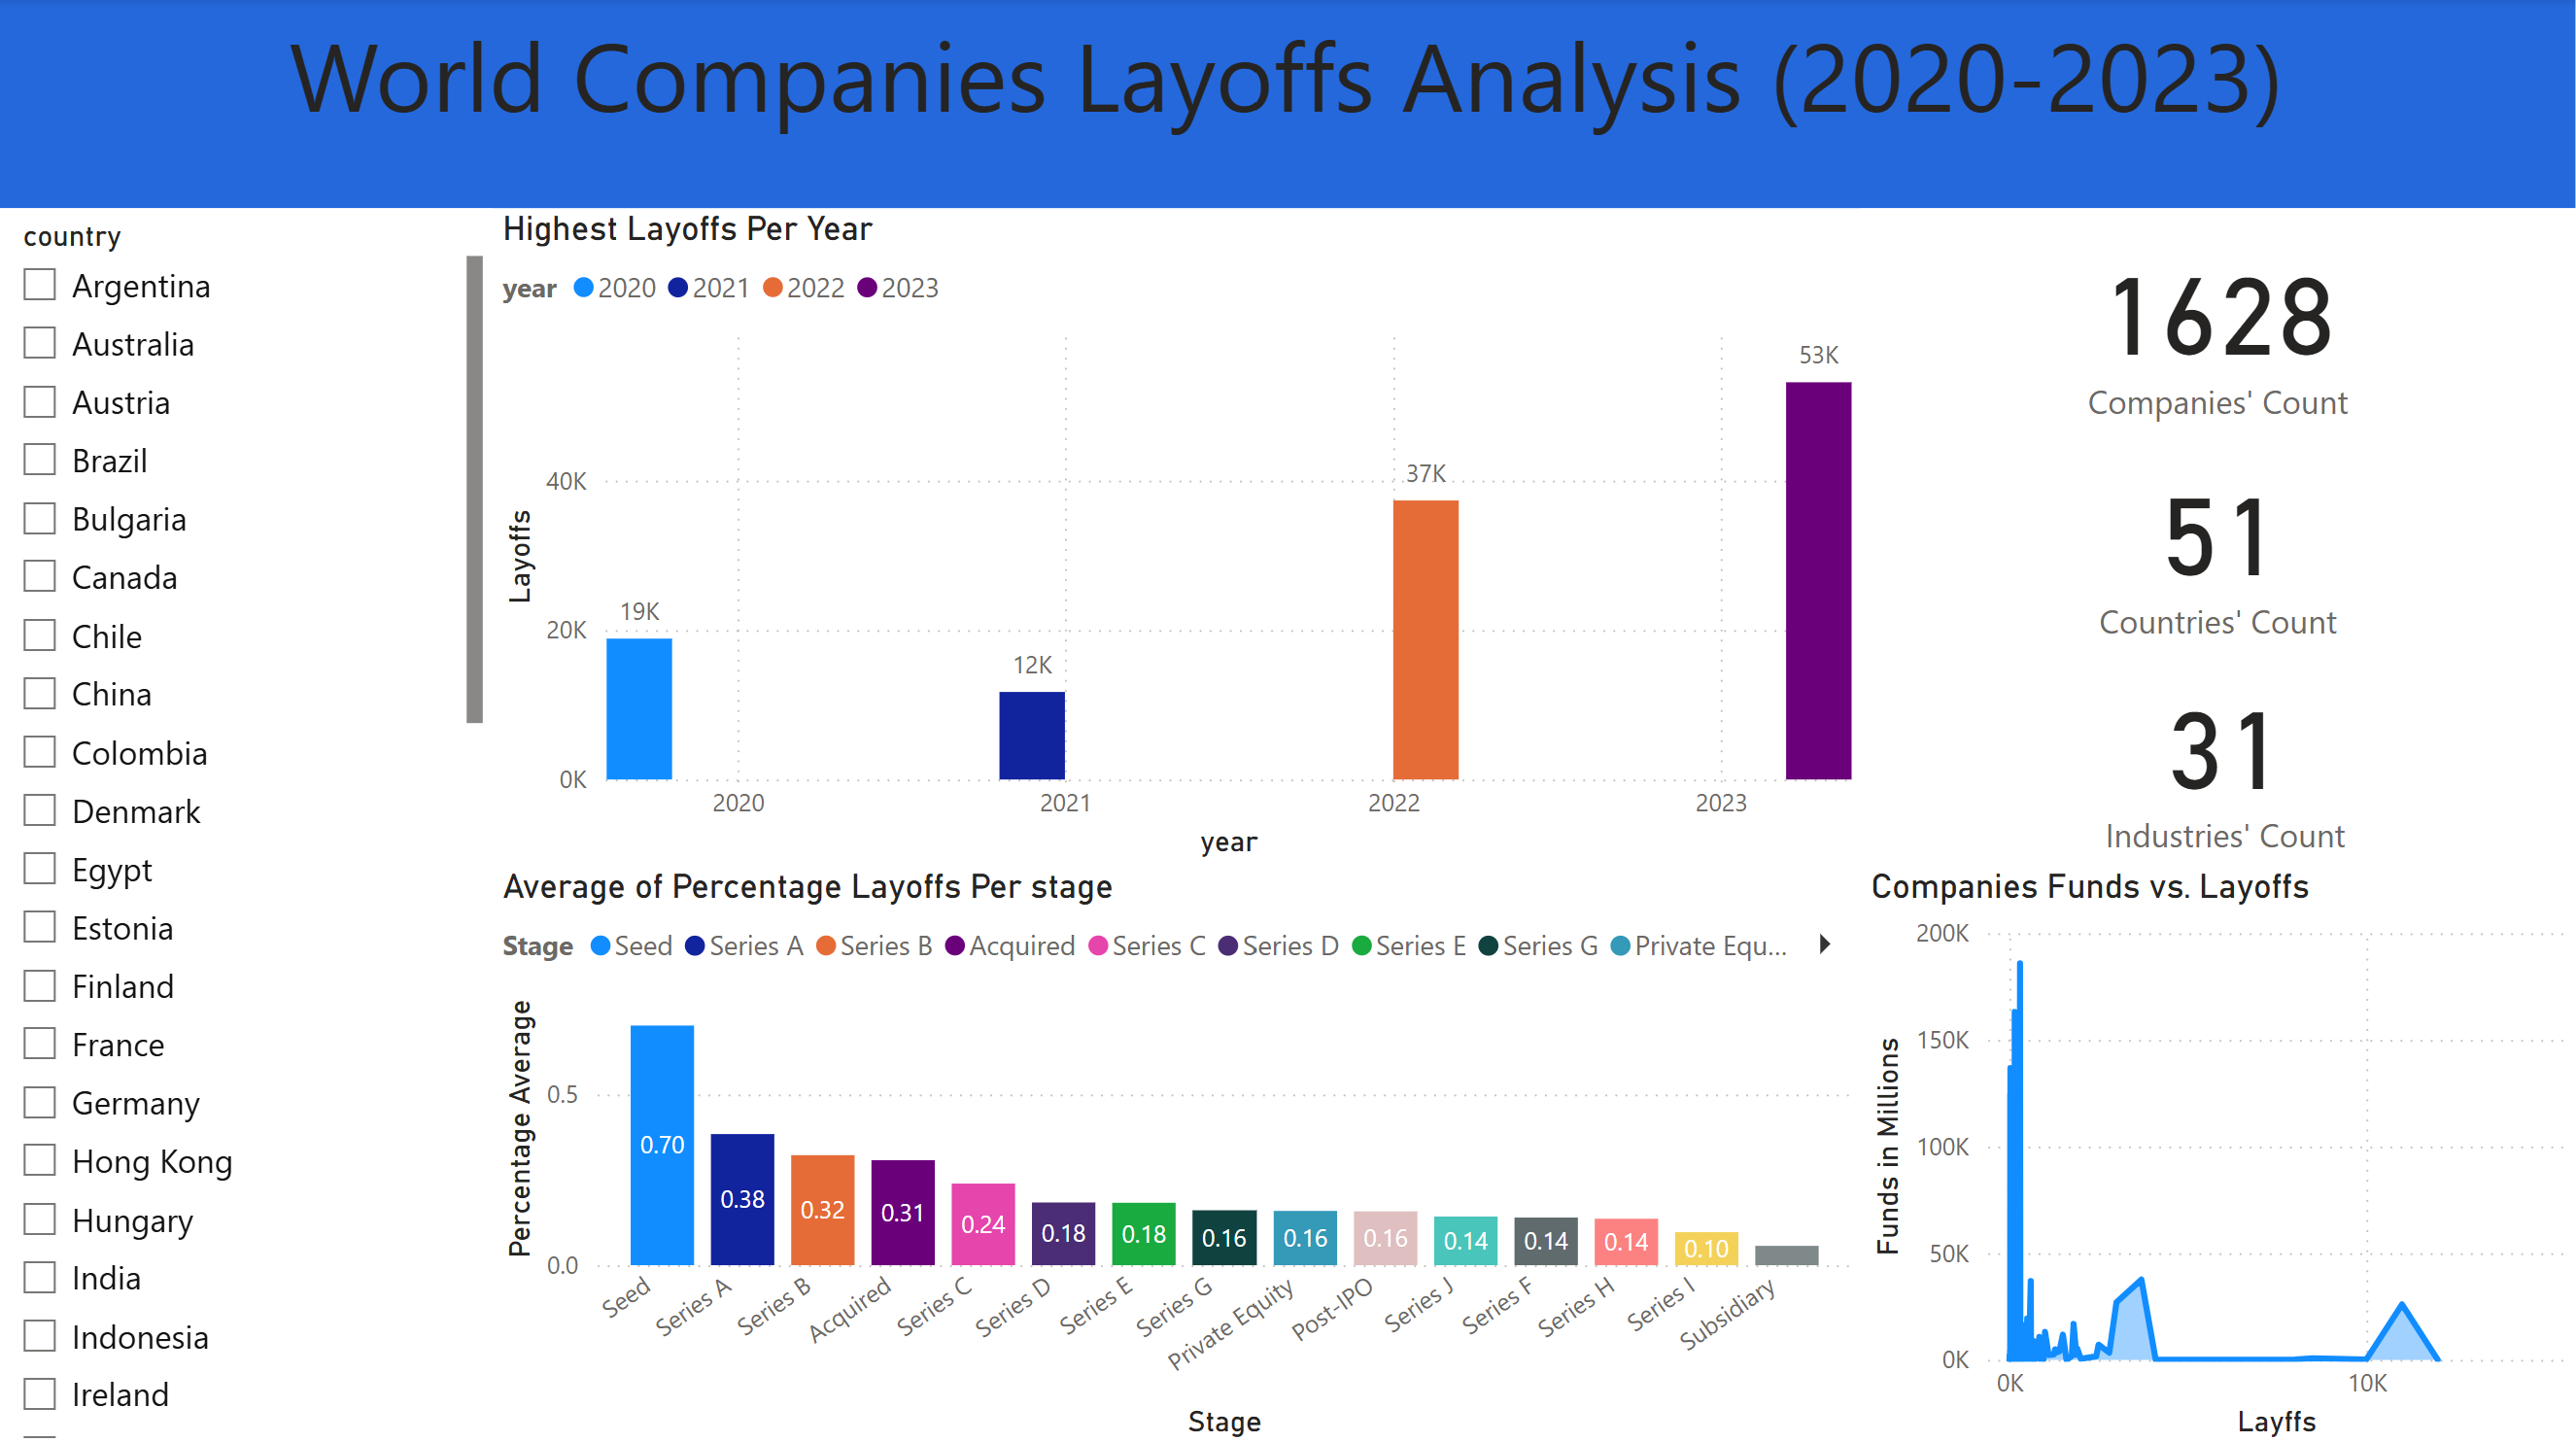

What the dashboard file says about the page in this screenshot:
{"tool":"powerbi","page":{"name":"Page 1","canvas":[1280,720],"ordinal":0},"visuals":[{"type":"columnChart","title":"Average of Percentage Layoffs Per stage","fields":{"Category":["layoffss.stage"],"Y":["Avg(layoffss.percentage_laid_off)"],"Series":["layoffss.stage"]},"box":[246.1,431.9,679.2,288.3],"z":0},{"type":"clusteredColumnChart","title":"Highest Layoffs Per Year","fields":{"Category":["top_5_laidoff.year","top_5_laidoff.company"],"Y":["Sum(top_5_laidoff.sum_laid_off)"],"Series":["top_5_laidoff.year"]},"box":[246.1,105,679.2,326.9],"z":1000},{"type":"textbox","box":[0,0,1280,105],"z":2000},{"type":"slicer","title":"Average of Percentage Laid Off per Country","fields":{"Values":["layoffss.country"]},"box":[0,105,246.1,615.3],"z":3000},{"type":"card","fields":{"Values":["Count(layoffss.company)"]},"box":[925.3,105,354.7,114.6],"z":4000},{"type":"card","fields":{"Values":["Count(layoffss.country)"]},"box":[925.3,219.6,354.7,103.8],"z":5000},{"type":"card","fields":{"Values":["Count(layoffss.industry)"]},"box":[932.6,323.3,347.5,108.6],"z":6000},{"type":"stackedAreaChart","title":"Companies Funds vs. Layoffs","fields":{"Category":["layoffss.total_laid_off"],"Y":["Sum(layoffss.funds_raised_millions)"]},"box":[925.3,431.9,354.7,288.3],"z":7000}]}

Visuals, with their boxes in screenshot pixels (x1, y1, x2, y2), scaled from the page's 1280x720 canvas onto the 2576x1442 screenshot:
"Average of Percentage Layoffs Per stage" columnChart: x1=496, y1=865, x2=1862, y2=1441
"Highest Layoffs Per Year" clusteredColumnChart: x1=496, y1=210, x2=1862, y2=865
textbox: x1=0, y1=0, x2=2575, y2=210
"Average of Percentage Laid Off per Country" slicer: x1=0, y1=210, x2=496, y2=1441
card - Count(layoffss.company): x1=1862, y1=210, x2=2575, y2=440
card - Count(layoffss.country): x1=1862, y1=440, x2=2575, y2=648
card - Count(layoffss.industry): x1=1877, y1=647, x2=2575, y2=865
"Companies Funds vs. Layoffs" stackedAreaChart: x1=1862, y1=865, x2=2575, y2=1441
